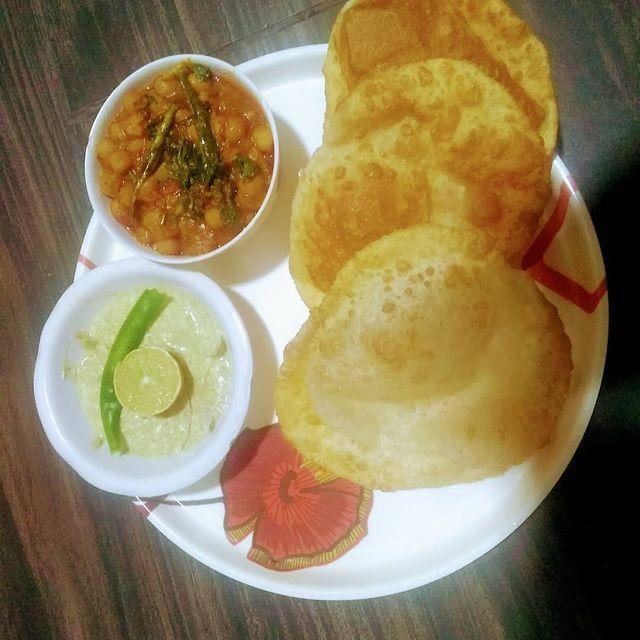Chole: (116, 82, 258, 249)
